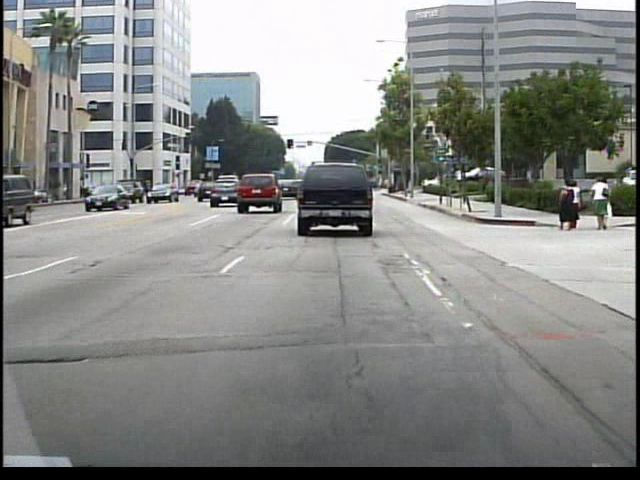person: (589, 174, 611, 232), (558, 176, 575, 233), (571, 180, 583, 230)
